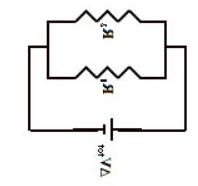resistor: (69, 58, 143, 80), (68, 3, 140, 22)
